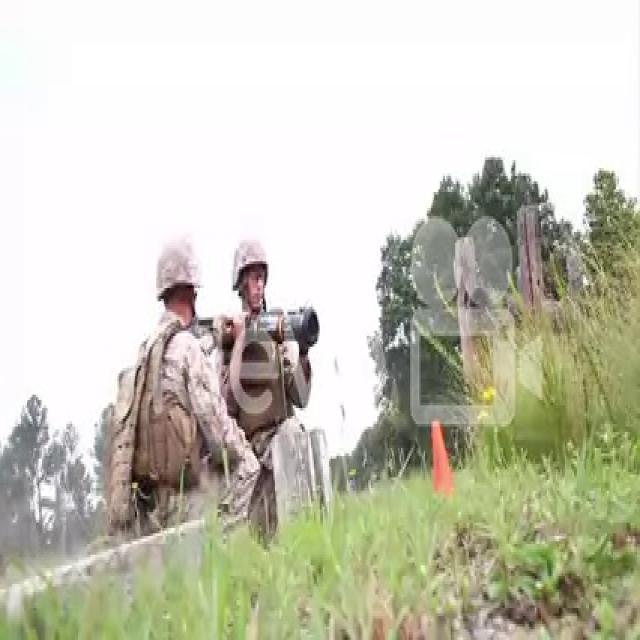bazooka: (202, 302, 324, 347)
